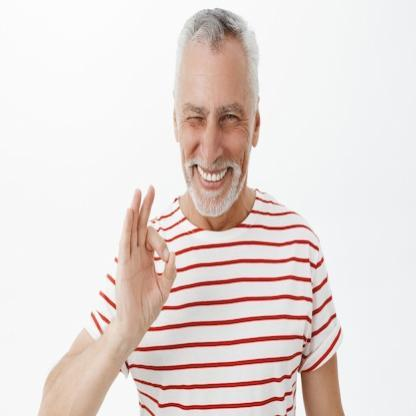ok: (116, 181, 180, 356)
